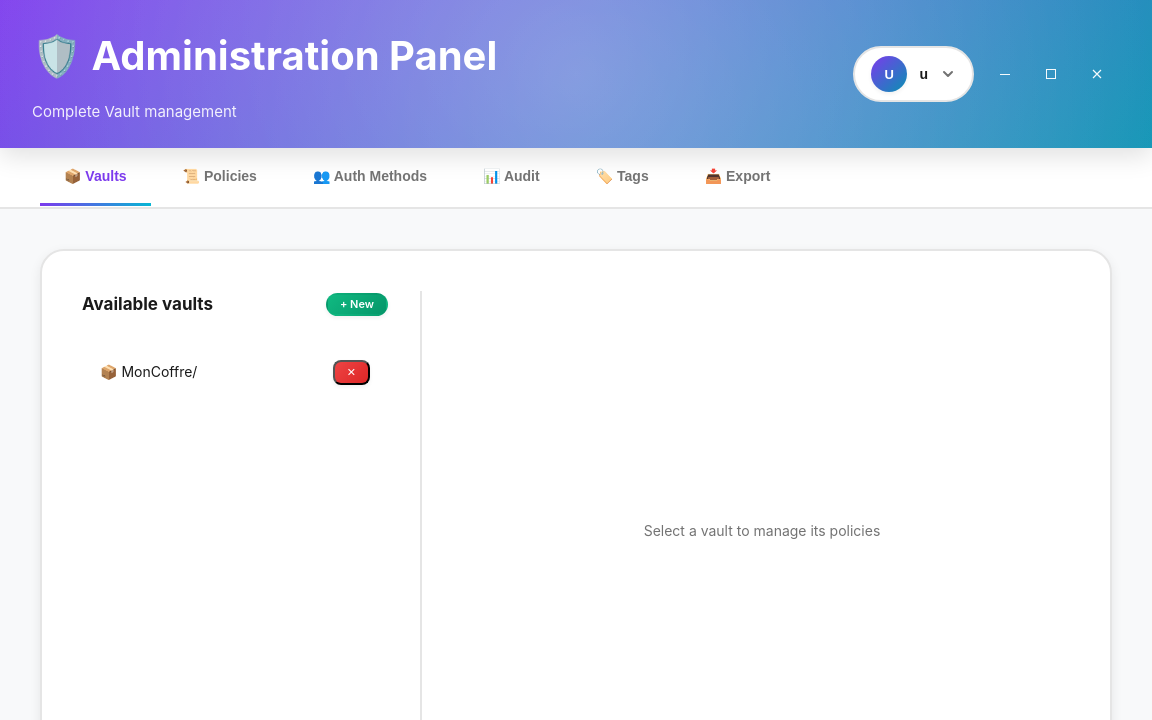
Test: modérateur (non admin) : consultation seule des objets système › admin : actions d'écriture toujours disponibles, pas de bandeau
The image size is (1152, 720).
Expected: the button "+ New" is shown, [326, 293, 388, 316]
Step 1. Click the tab with class "admin-tab" showing "📜 Policies" → (220, 178), box [159, 148, 281, 207]
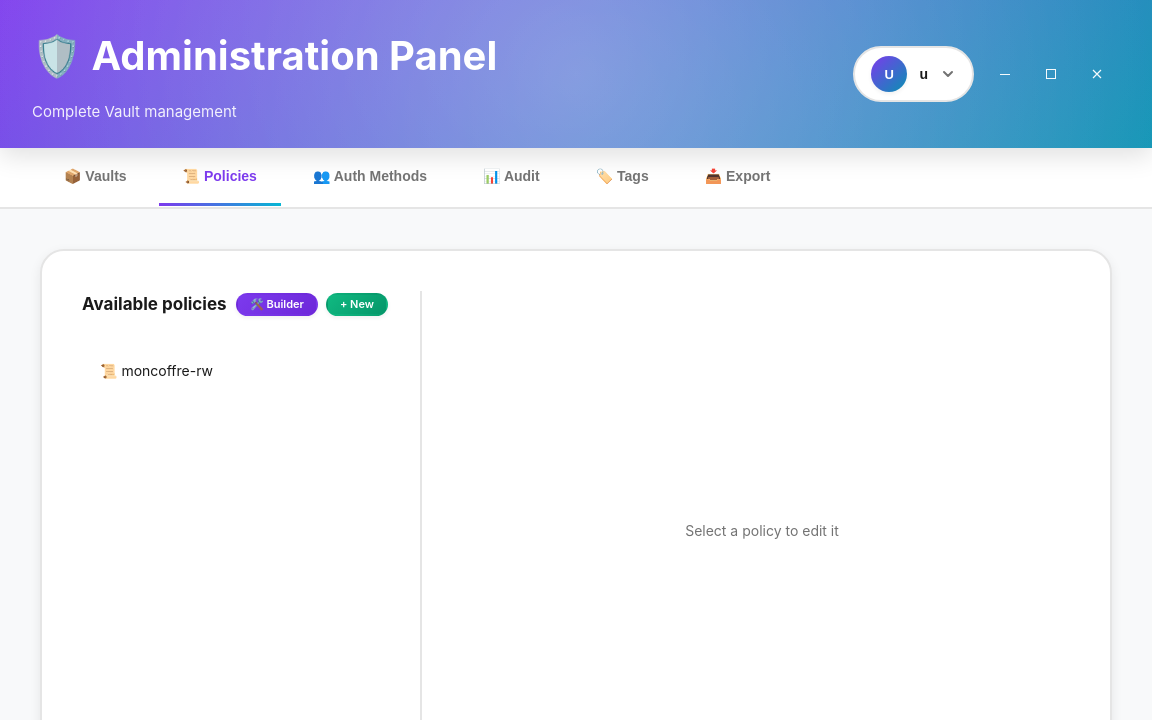
Expected: the button "+ New" is shown, [326, 293, 388, 316]
Now the button "🛠️ Builder" is shown, box [236, 293, 318, 316]
